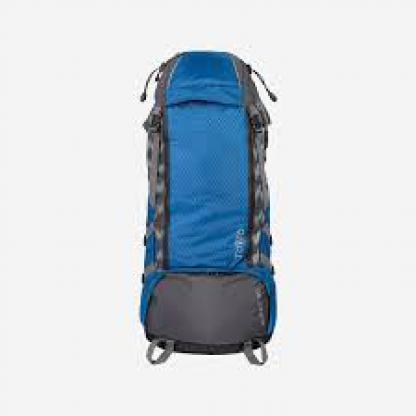morral: (122, 39, 318, 383)
